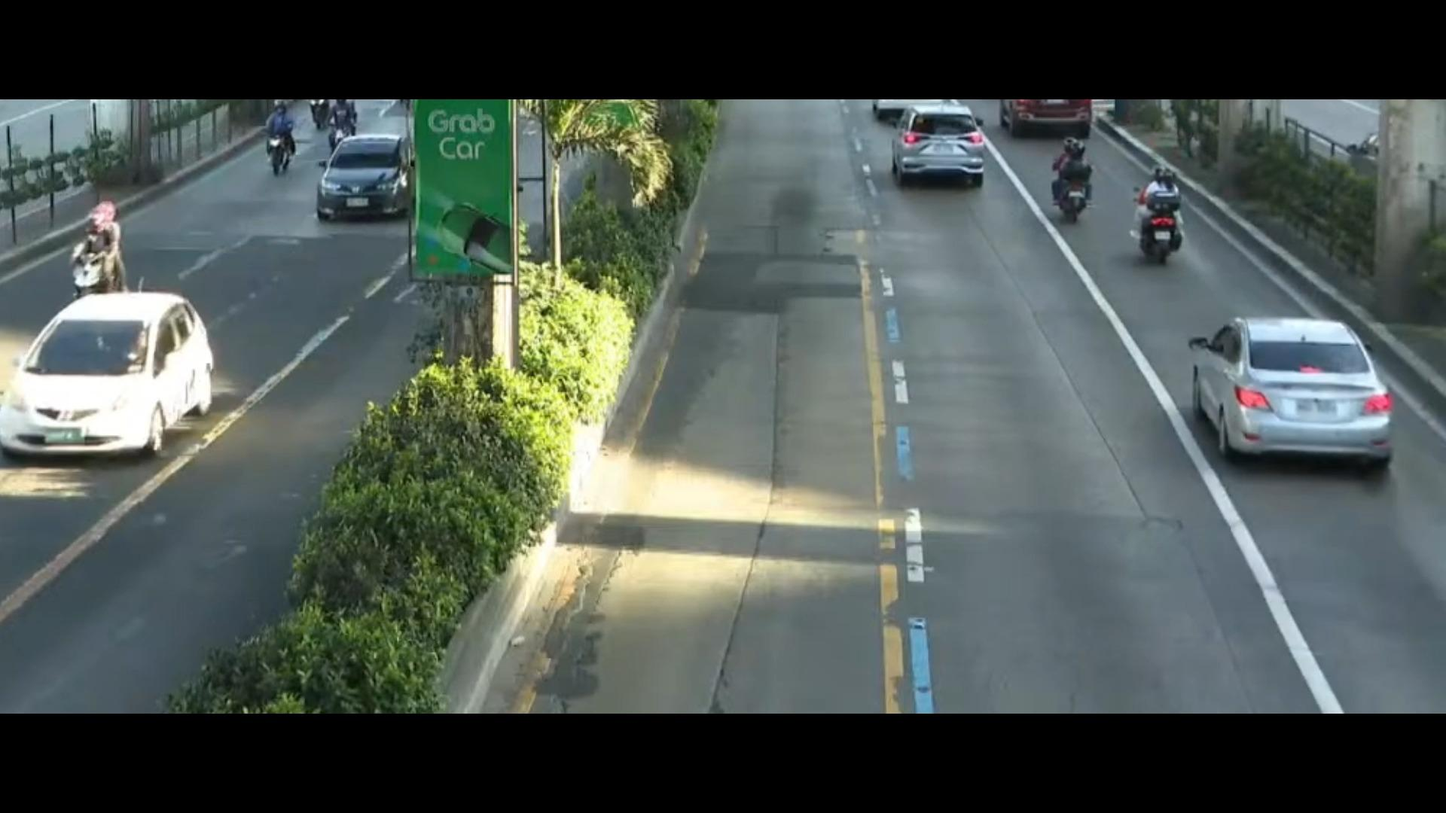Motorcycle: (51, 198, 140, 292), (1111, 172, 1205, 261), (1015, 142, 1119, 217), (251, 100, 298, 185), (314, 96, 354, 145)
SUV: (0, 279, 228, 477), (885, 104, 991, 203)
Sedan: (1164, 285, 1417, 505), (317, 121, 418, 223)
